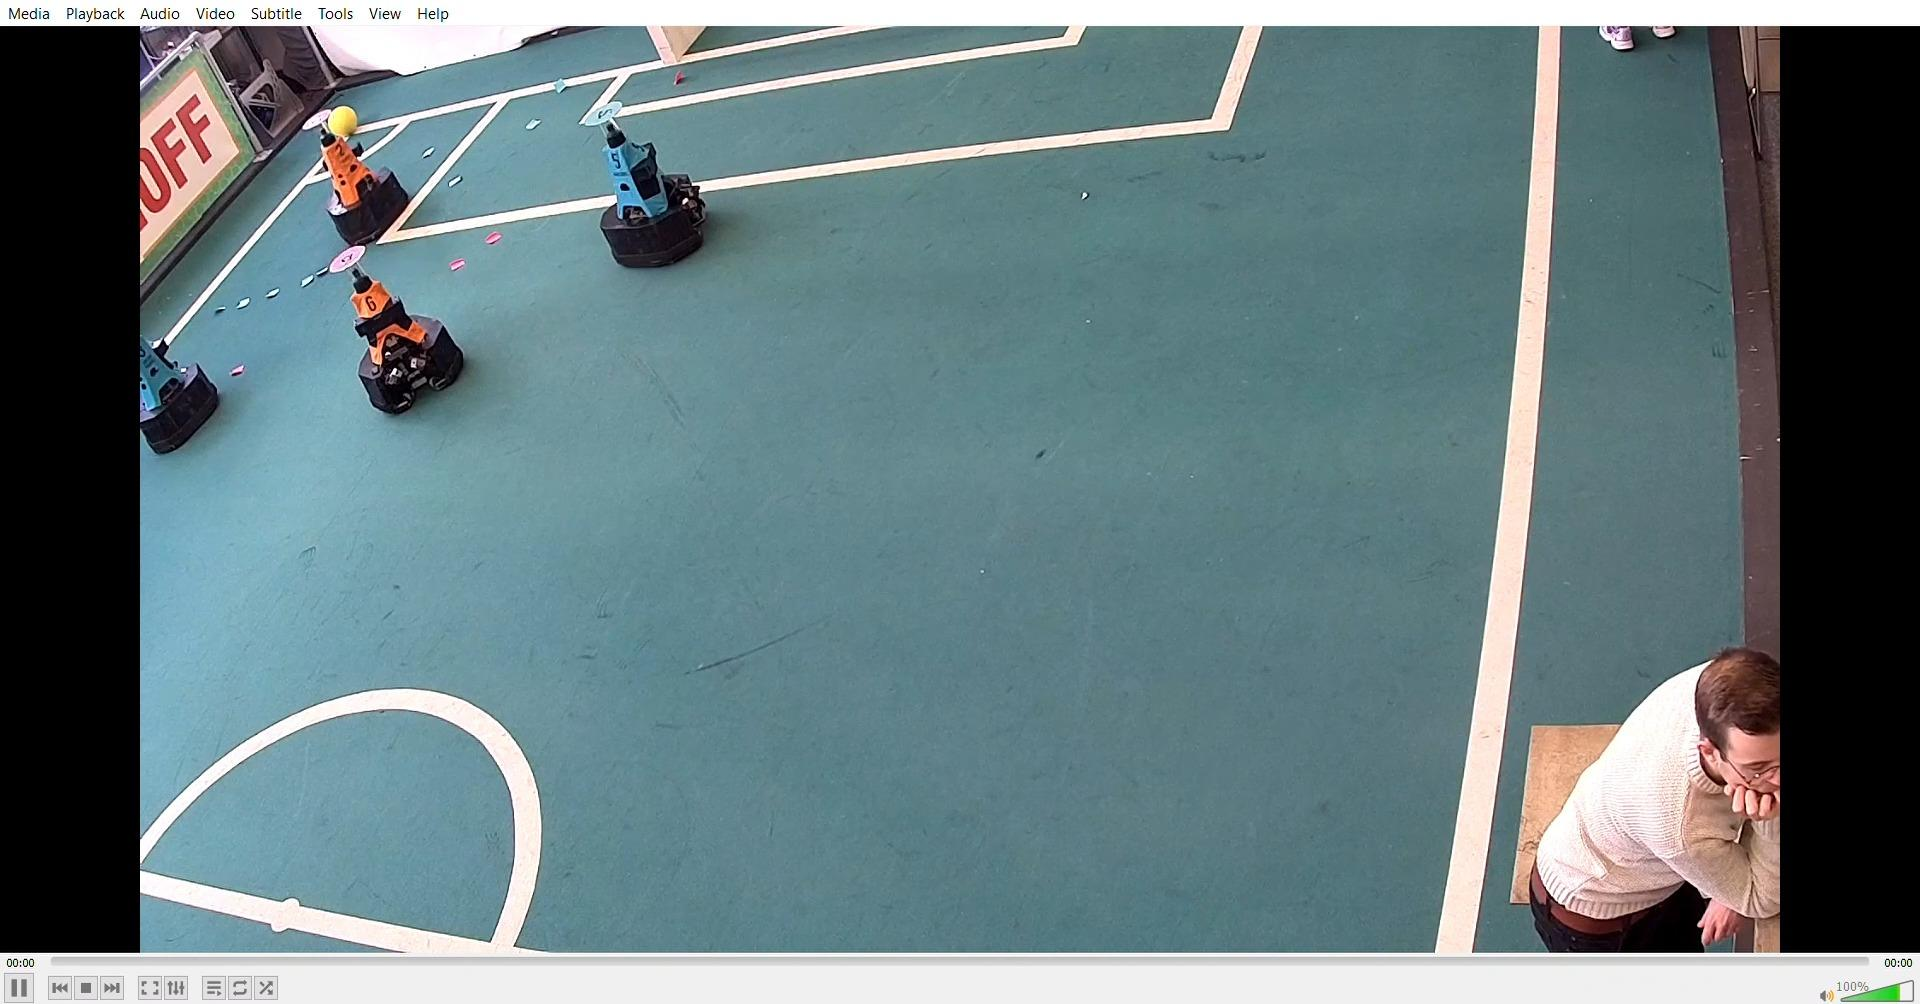Ball: (328, 107, 367, 138)
Team_Blue: (582, 93, 721, 272), (138, 315, 236, 452)
Team_Red: (324, 241, 466, 413), (309, 108, 420, 248)
